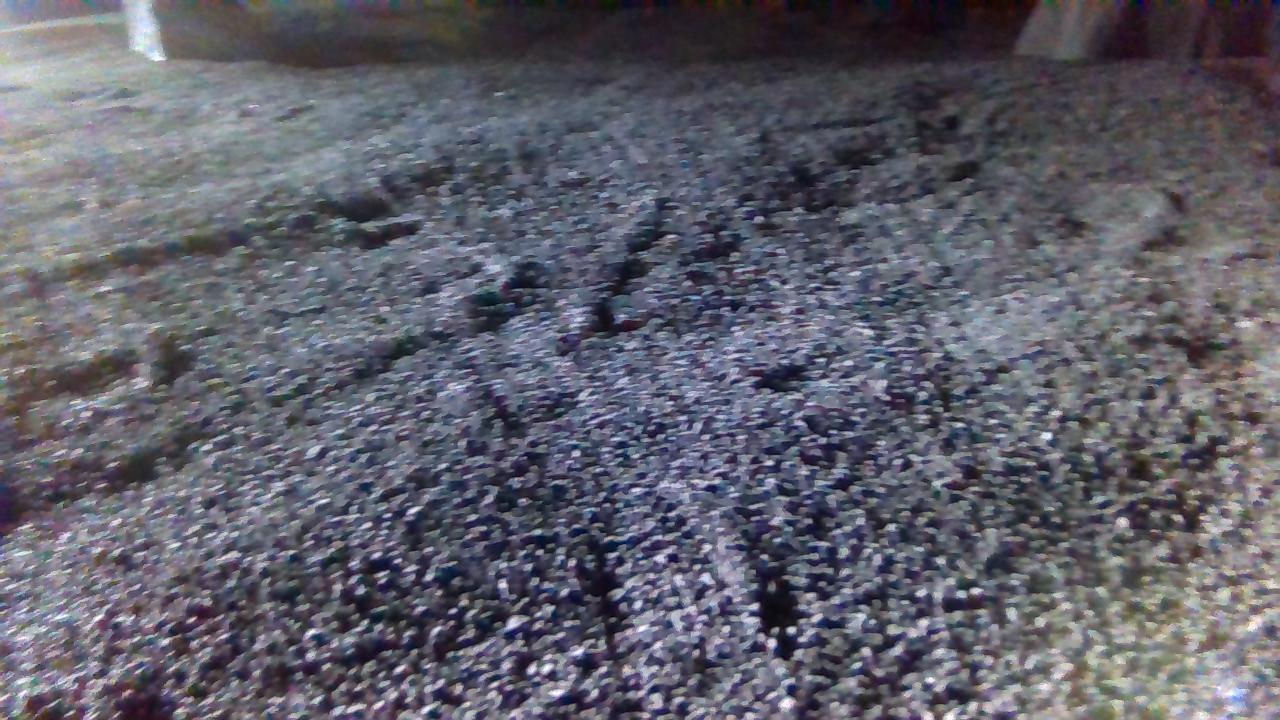rock: (1018, 0, 1280, 59), (125, 0, 254, 65)
